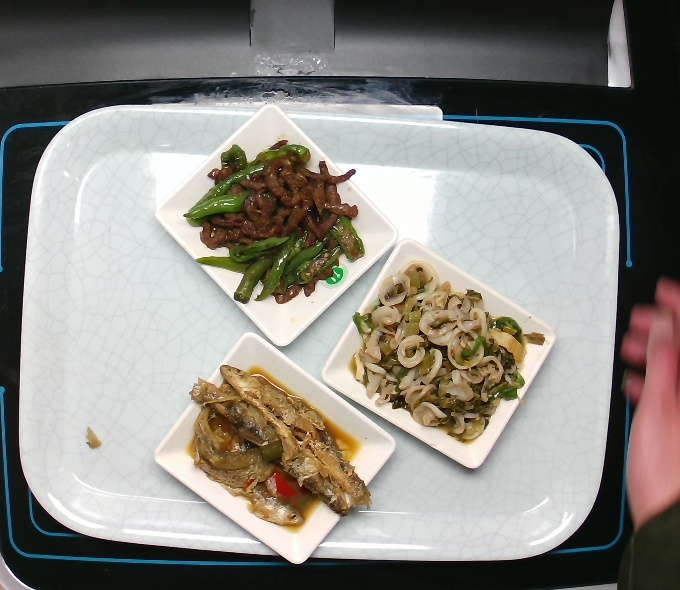wcq-QingJiaoNiuRou: (182, 133, 365, 310)
wcq-XiaoXiYu: (184, 365, 372, 538)
wcq-XueCaiYouYu: (339, 256, 545, 448)
